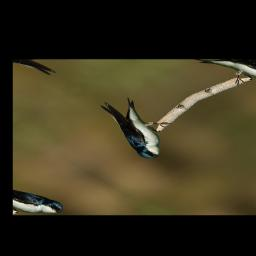Swallow: (76, 91, 197, 163)
